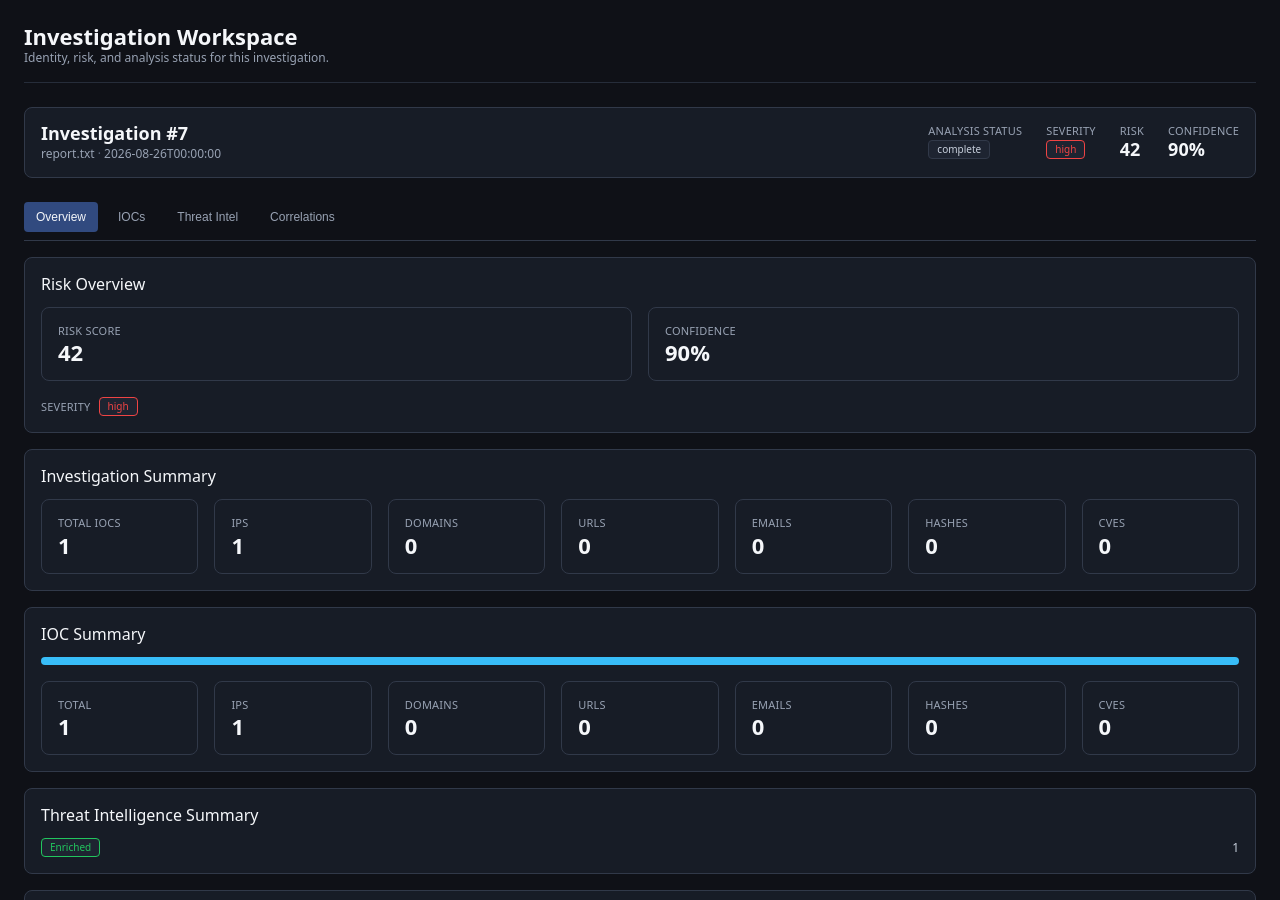
it: InvestigationWorkspacePage › Accessibility Foundation (Frontend MAX-1) › mouse interaction (regression) › clicking a tab still selects it, shows the correct panel, and deselects the previous tab
The width and height of the screenshot is (1280, 900).
Check: the tab "Overview" is shown, box [24,202,98,232]
Click the tab "IOCs" at point(132, 217), box [106,202,157,232]
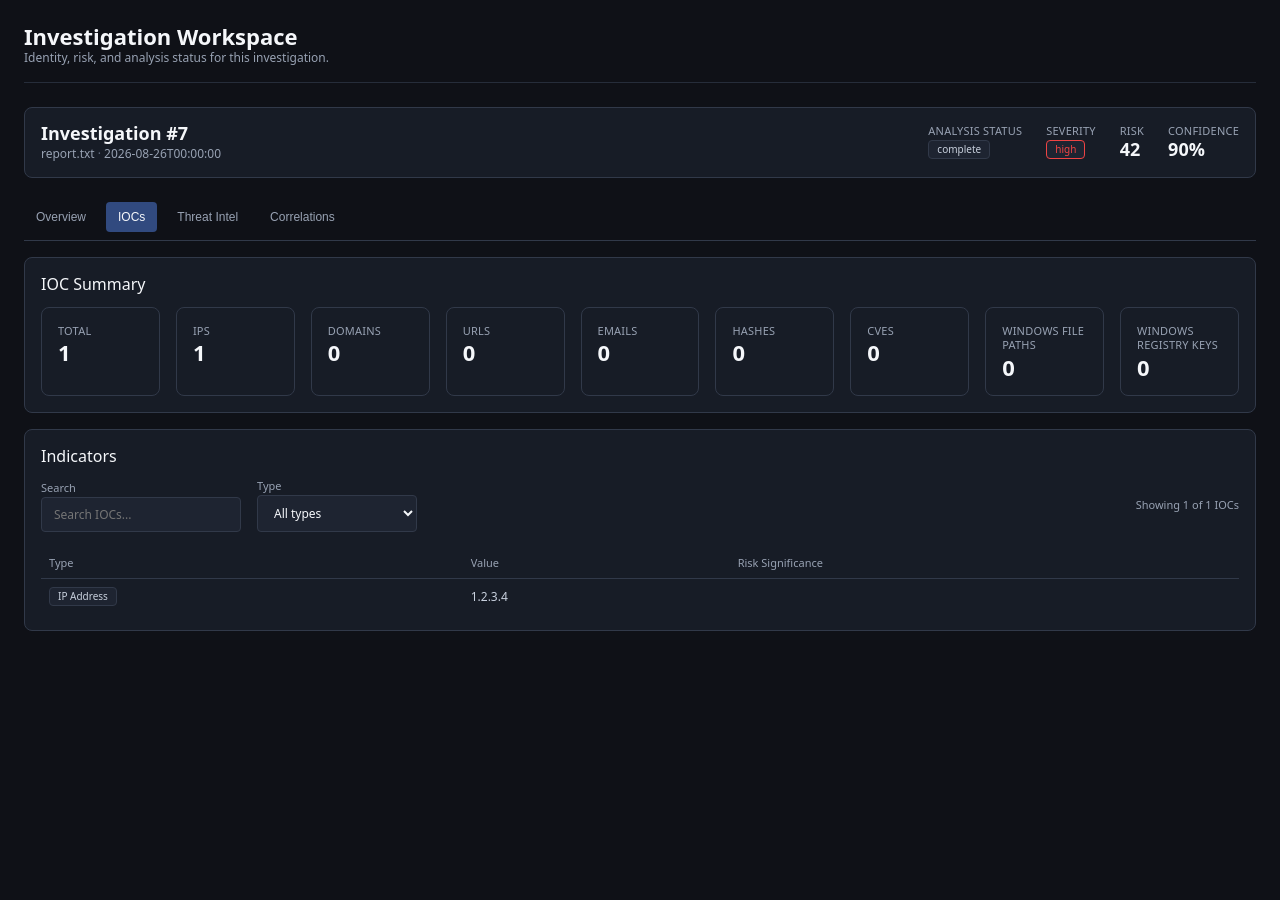
Check: the element with class "investigation-ioc-workspace" is shown, box [24,257,1256,631]
